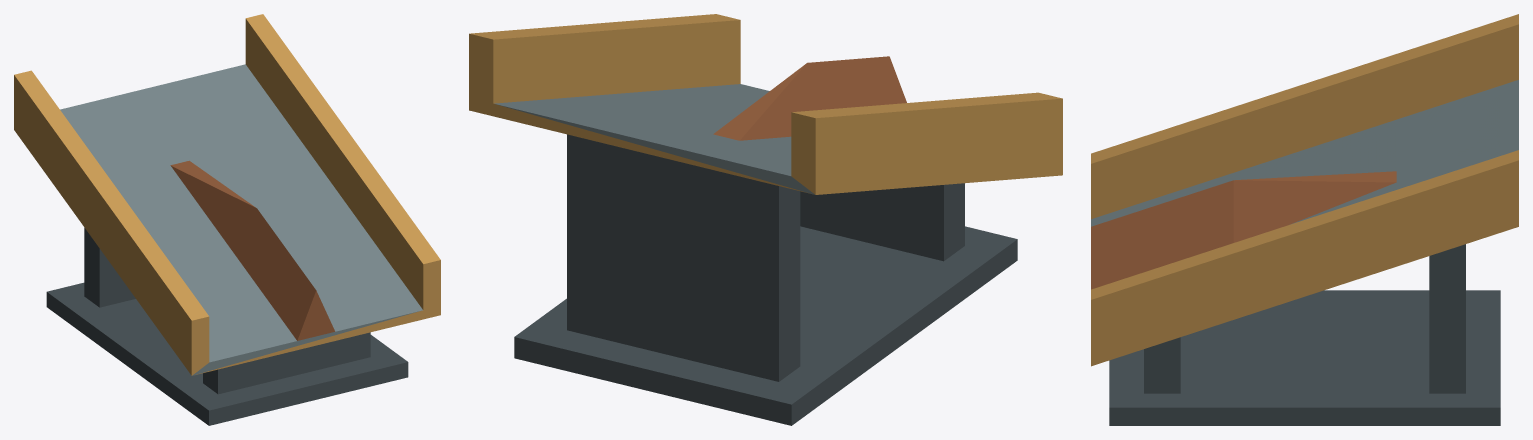
The picture shows the model from 3 angles, left to right: view 1: azimuth 30°, elevation 25°; view 2: azimuth 150°, elevation 25°; view 3: azimuth 270°, elevation 25°; orthographic projection. The views are drawn at different scales.
Parts seen in each view (by area): view 1: ContinuousTwinValleyRidgeChute, WholeGroundedPlinth, LowerWholeSlopedTopPedestal, UpperWholeSlopedTopPedestal; view 2: ContinuousTwinValleyRidgeChute, UpperWholeSlopedTopPedestal, WholeGroundedPlinth, LowerWholeSlopedTopPedestal; view 3: ContinuousTwinValleyRidgeChute, WholeGroundedPlinth, UpperWholeSlopedTopPedestal, LowerWholeSlopedTopPedestal.
Boxes of the visible parts, x1,y1,x2,y2 form: ContinuousTwinValleyRidgeChute: [14, 14, 440, 375]; WholeGroundedPlinth: [46, 282, 408, 425]; LowerWholeSlopedTopPedestal: [203, 332, 370, 394]; UpperWholeSlopedTopPedestal: [84, 227, 135, 307]; ContinuousTwinValleyRidgeChute: [469, 14, 1062, 194]; UpperWholeSlopedTopPedestal: [567, 134, 800, 381]; WholeGroundedPlinth: [514, 226, 1017, 425]; LowerWholeSlopedTopPedestal: [800, 183, 964, 261]; ContinuousTwinValleyRidgeChute: [1091, 14, 1518, 366]; WholeGroundedPlinth: [1109, 290, 1500, 425]; UpperWholeSlopedTopPedestal: [1429, 244, 1465, 393]; LowerWholeSlopedTopPedestal: [1144, 337, 1180, 393].
Size of the model in its own units: 1.7 by 1.52 by 2.1.
